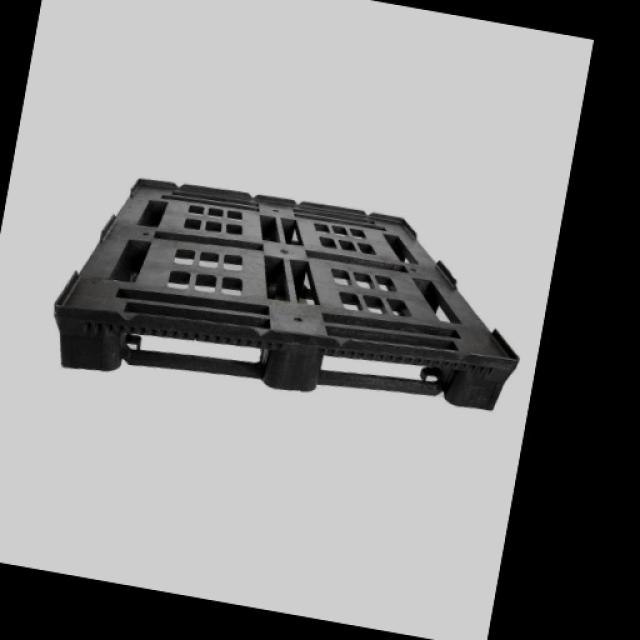non-igps: (46, 168, 524, 420)
